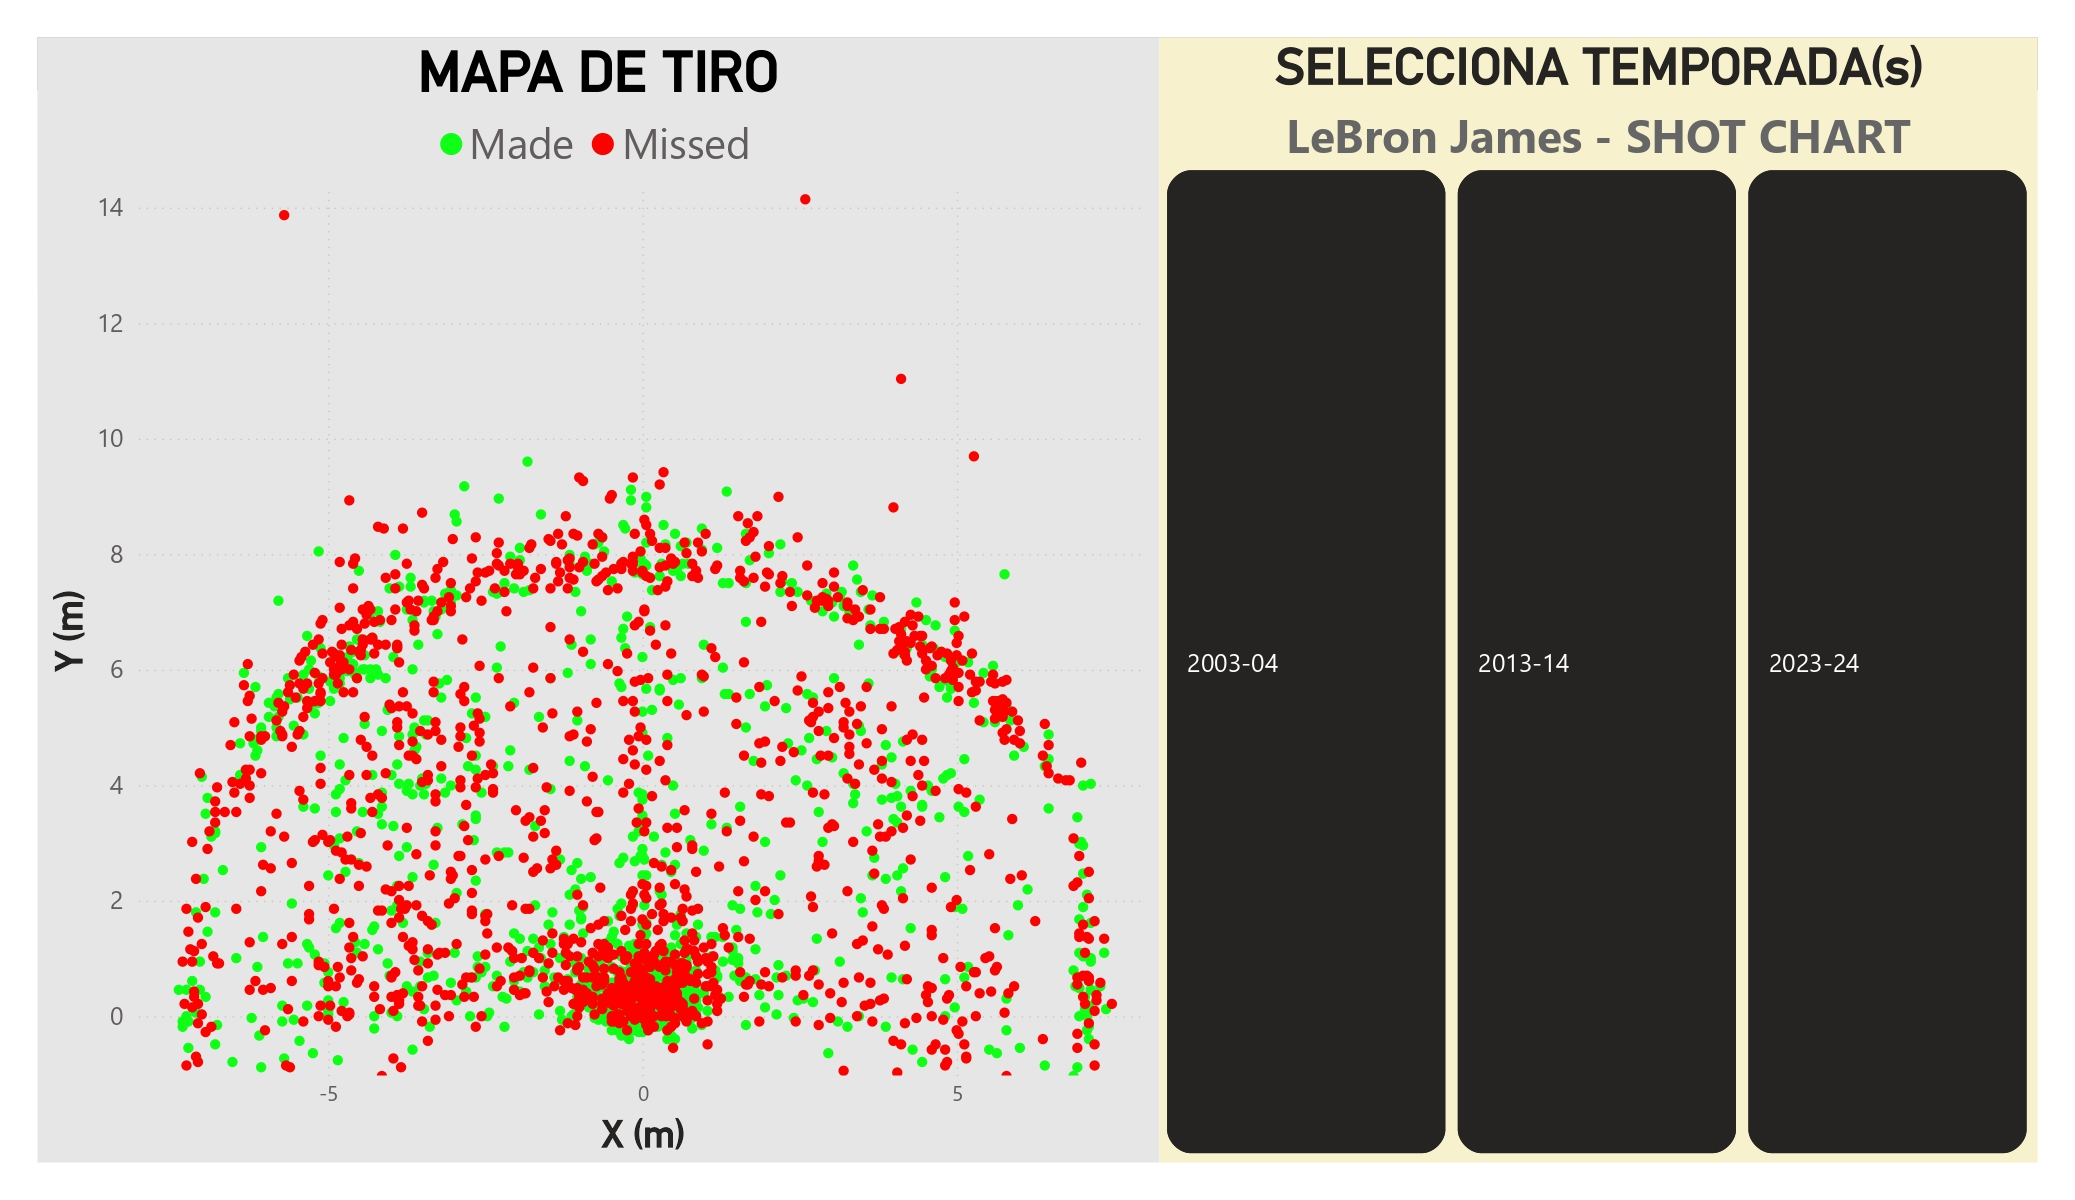

This screenshot's page, from the dashboard's own definition file:
{"tool":"powerbi","page":{"name":"MAPA_TIRO","canvas":[1280,720],"ordinal":3},"visuals":[{"type":"scatterChart","title":"MAPA DE TIRO","fields":{"X":["lebron_shot_data.X_m"],"Series":["lebron_shot_data.ShotResult"],"Y":["lebron_shot_data.Y_m"]},"box":[0,0,718.3,720],"z":0},{"type":"advancedSlicerVisual","title":"SELECCIONA TEMPORADA(s)","fields":{"Values":["lebron_career_data.SEASON_ID"]},"box":[718.3,0,561.7,720],"z":1000}]}

Visuals, with their boxes on the page's 1280x720 design canvas (x1, y1, x2, y2). These are canvas units, not pixel positions in the 2075x1200 screenshot, which may show the page scaled, cropped or inside an application window:
"MAPA DE TIRO" scatterChart: 0 0 718 720
"SELECCIONA TEMPORADA(s)" advancedSlicerVisual: 718 0 1280 720
